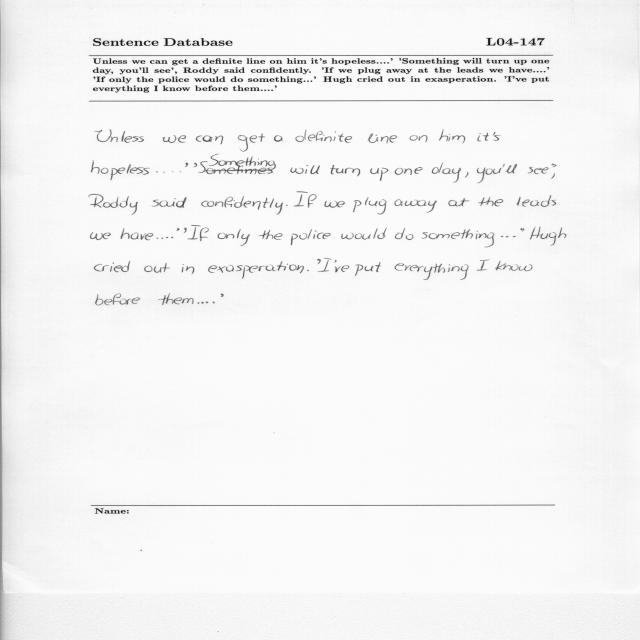word: (208, 261, 304, 279), (198, 154, 276, 174), (201, 196, 283, 215), (422, 229, 495, 247), (395, 264, 469, 280), (91, 160, 150, 180), (89, 194, 138, 215), (295, 129, 352, 143), (530, 226, 566, 246), (291, 230, 331, 246), (95, 130, 144, 143), (394, 199, 437, 213), (353, 197, 386, 215), (432, 163, 461, 183), (218, 229, 250, 246), (96, 294, 140, 306), (341, 228, 387, 239), (238, 134, 265, 152), (517, 195, 557, 207), (95, 261, 131, 272), (158, 294, 194, 305), (495, 261, 533, 271), (355, 262, 382, 276), (152, 197, 186, 208), (477, 168, 501, 183), (187, 225, 209, 241), (439, 130, 465, 143), (330, 165, 360, 176), (297, 192, 317, 208), (121, 228, 146, 240), (368, 134, 397, 144), (290, 165, 320, 174), (144, 263, 170, 273), (370, 168, 389, 181), (196, 136, 223, 145), (259, 230, 283, 240), (478, 197, 503, 206), (395, 167, 423, 175), (395, 228, 413, 240), (318, 258, 332, 272), (163, 135, 186, 143), (334, 260, 349, 272), (448, 199, 470, 207), (90, 232, 111, 240), (528, 167, 549, 174), (324, 201, 345, 208), (477, 260, 490, 271), (503, 164, 517, 174), (293, 195, 304, 207), (410, 135, 428, 142), (145, 233, 163, 240), (182, 264, 194, 274), (478, 133, 490, 141), (171, 228, 180, 238), (274, 135, 283, 142), (493, 132, 500, 141), (156, 171, 174, 173), (198, 301, 209, 304), (465, 172, 469, 178), (551, 173, 555, 179), (317, 259, 321, 264), (184, 227, 187, 233), (552, 164, 557, 167), (501, 236, 516, 237), (185, 163, 188, 167), (194, 163, 197, 167), (521, 228, 525, 231), (221, 293, 224, 297), (212, 302, 215, 304), (286, 205, 288, 206), (166, 237, 168, 238), (307, 270, 309, 271), (180, 172, 181, 172)
